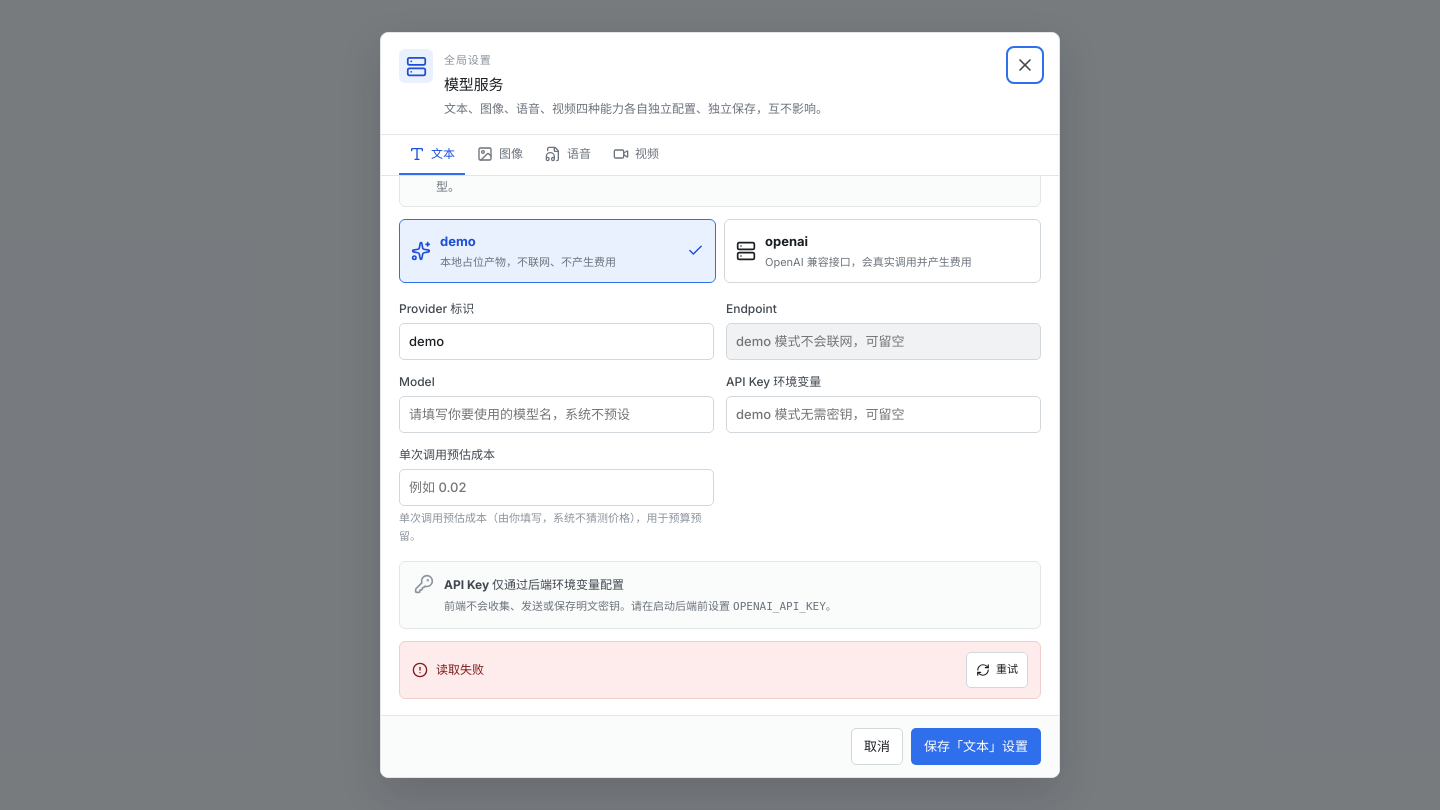
Test: 读取失败时给出错误与重试入口，重试后能加载成功
(page scrolled)
Expected: the text "读取失败" is shown, [436, 662, 484, 677]
Click the button "重试".
click(997, 670)  # box [966, 652, 1028, 688]
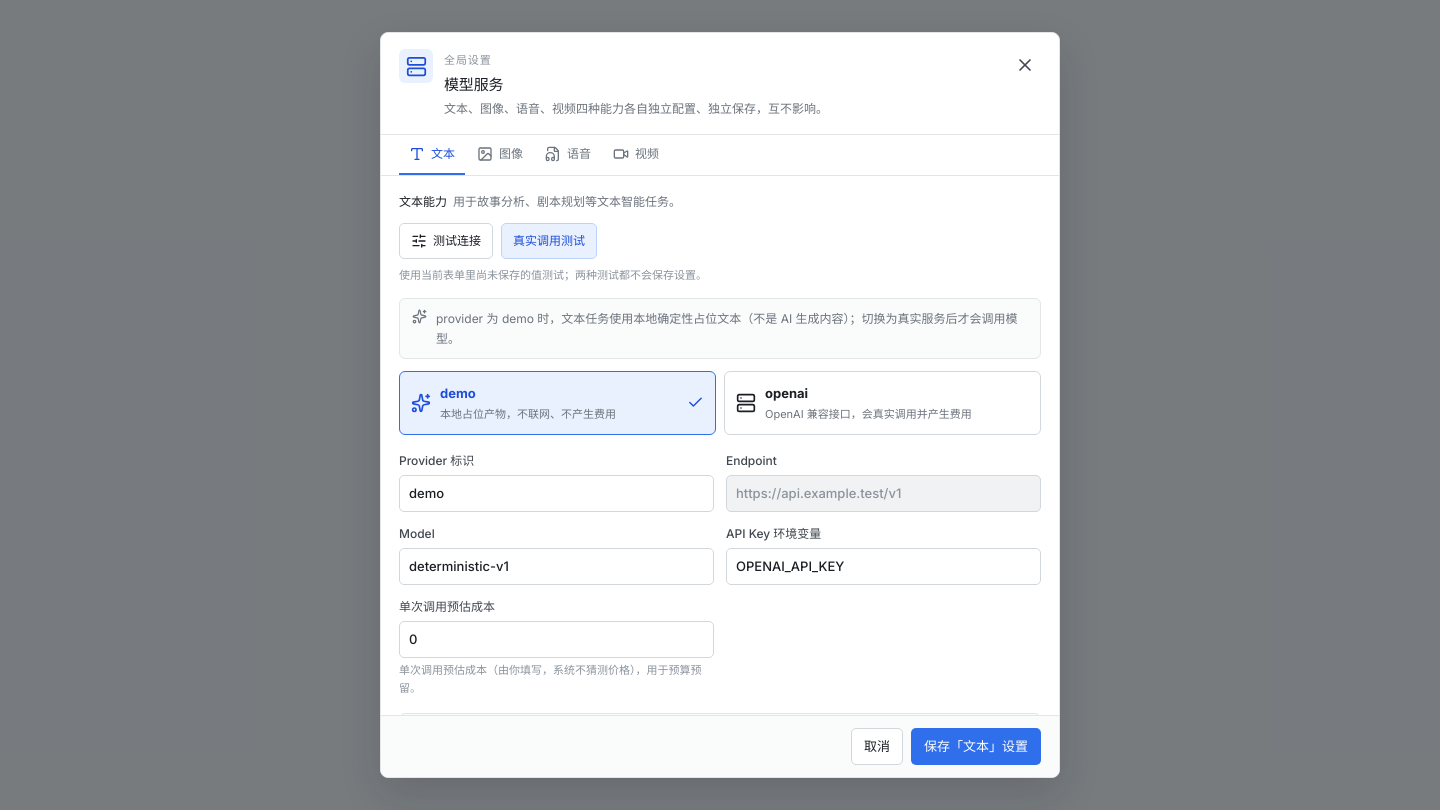
Expected: the field showing "deterministic-v1" is shown, [399, 548, 714, 585]
